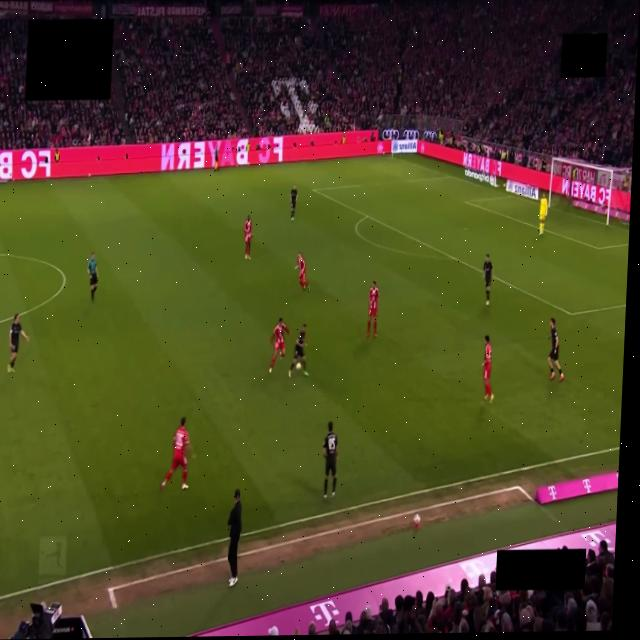ball: (295, 363, 300, 369)
player: (160, 417, 193, 490), (7, 314, 30, 373), (268, 318, 288, 372), (323, 422, 337, 499), (288, 324, 307, 377), (548, 319, 563, 380), (366, 281, 379, 337), (482, 336, 493, 401), (295, 252, 309, 290), (483, 255, 492, 305), (539, 194, 547, 235), (244, 215, 251, 259), (290, 187, 296, 221)
referee: (86, 252, 99, 303)
